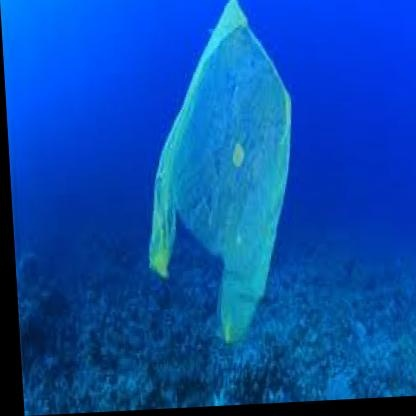trash: (150, 0, 290, 342)
